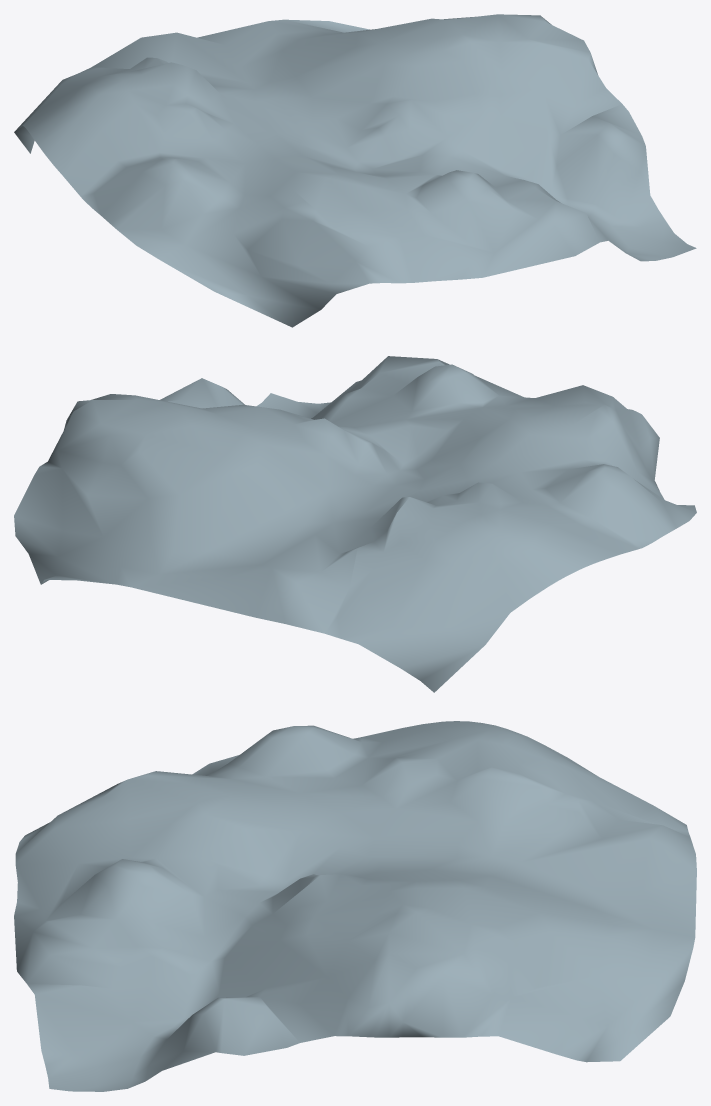
The model's file is wolken bed 2.fbx.
3 renders of one model, top to bottom at view 1: azimuth 30°, elevation 25°; view 2: azimuth 150°, elevation 25°; view 3: azimuth 270°, elevation 25°, orthographic. The views are drawn at different scales.
Visible parts, largest first — view 1: pPlane1; view 2: pPlane1; view 3: pPlane1.
Part boxes in pixels (x1,y1,x2,y2): pPlane1: (14,14,696,327); pPlane1: (14,356,696,692); pPlane1: (14,721,696,1091).
Bounding box in the file's own units: 26.7 × 6.21 × 26.32.
